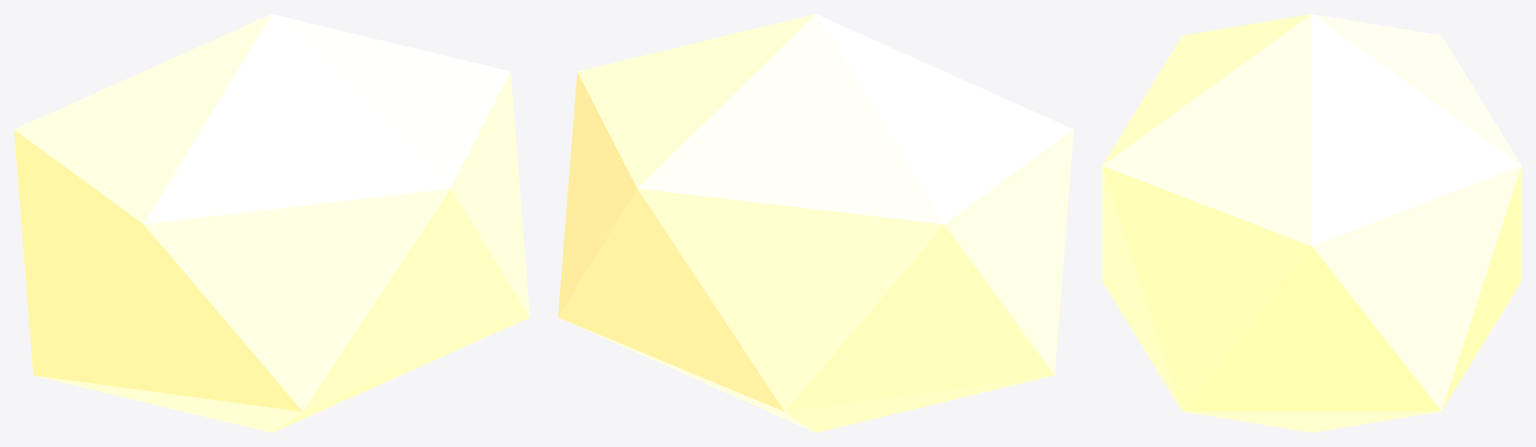
Rendered from gold_nugget.glb.
3 renders of one model, left to right at view 1: azimuth 30°, elevation 25°; view 2: azimuth 150°, elevation 25°; view 3: azimuth 270°, elevation 25°, orthographic.
Visible parts, largest first — view 1: GoldNugget; view 2: GoldNugget; view 3: GoldNugget.
Part boxes in pixels (box(x1,y1,x2,y2)): GoldNugget: box(14, 14, 529, 432); GoldNugget: box(558, 14, 1073, 432); GoldNugget: box(1102, 14, 1521, 432).
Size of the model in its own units: 0.6261 by 0.525 by 0.4764.
